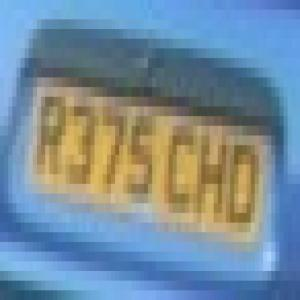Plate: (26, 47, 280, 268)
